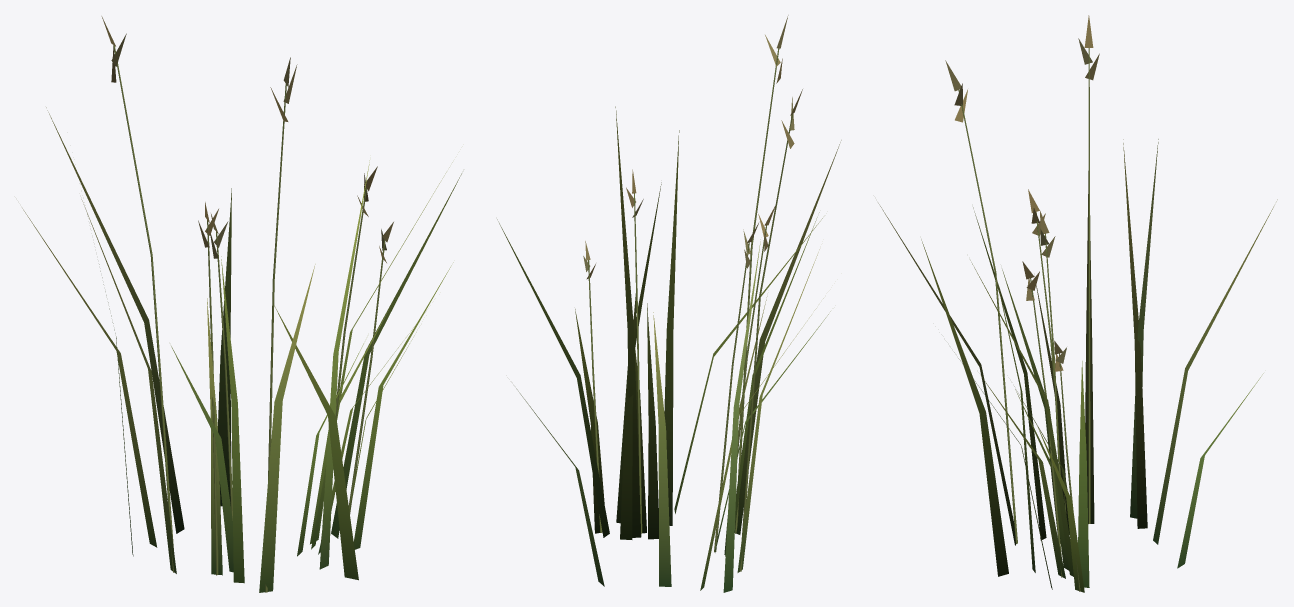
The model's file is grass-meadow-a.lod1.glb.
3 views of the same model, side by side, from view 1: azimuth 30°, elevation 25°; view 2: azimuth 150°, elevation 25°; view 3: azimuth 270°, elevation 25° (orthographic). The views are drawn at different scales.
Parts seen in each view (by area): view 1: grass-meadow-a.lod1; view 2: grass-meadow-a.lod1; view 3: grass-meadow-a.lod1.
Part boxes in pixels (x1,y1,x2,y2): grass-meadow-a.lod1: (22, 16, 461, 592); grass-meadow-a.lod1: (497, 15, 841, 592); grass-meadow-a.lod1: (878, 15, 1277, 592).
Bounding box in the file's own units: 0.5621 × 0.7249 × 0.5579.
